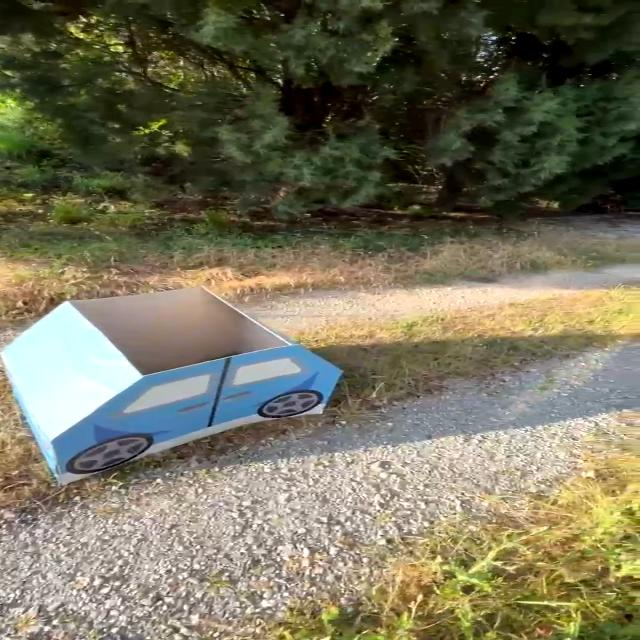blue_car: (0, 274, 384, 490)
